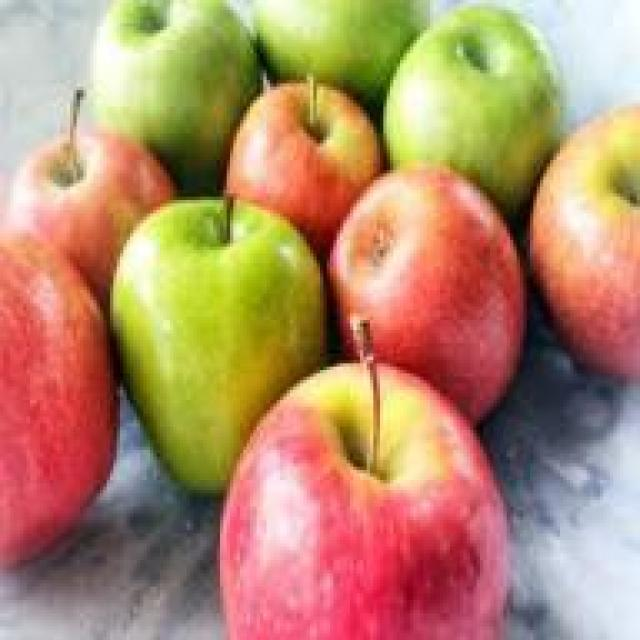apple: (220, 367, 513, 633), (120, 203, 323, 490), (327, 157, 523, 370), (3, 220, 117, 537), (390, 13, 553, 194), (530, 107, 640, 353), (230, 83, 380, 240), (13, 130, 174, 270)
